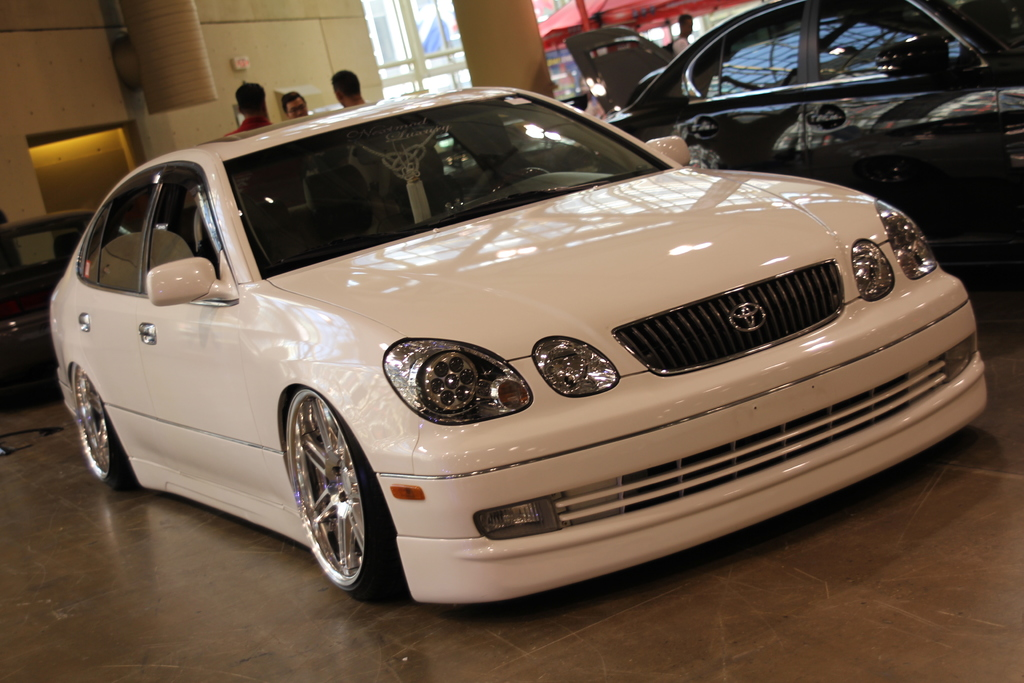Car: (47, 76, 988, 603), (569, 0, 1023, 270), (0, 206, 96, 397)
